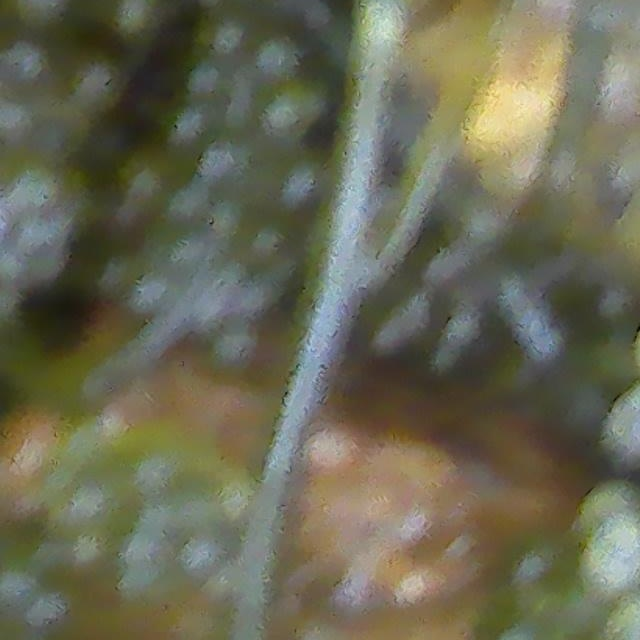SeaGrape: (580, 522, 640, 594)
